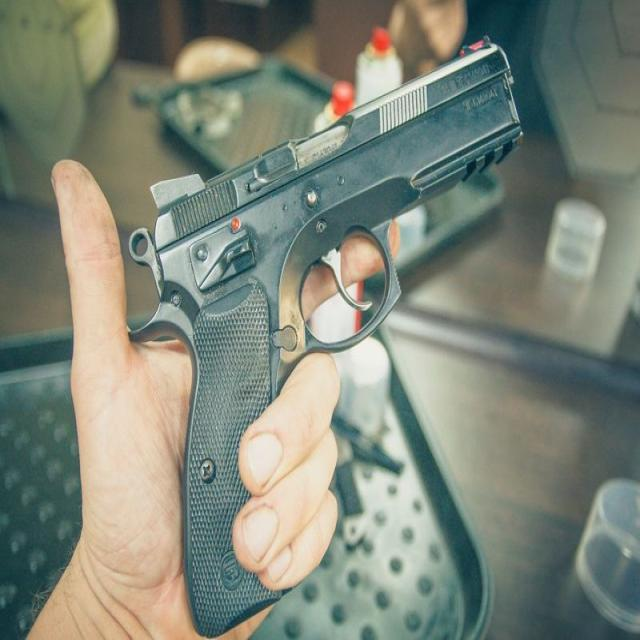HandGun: (111, 30, 537, 640)
